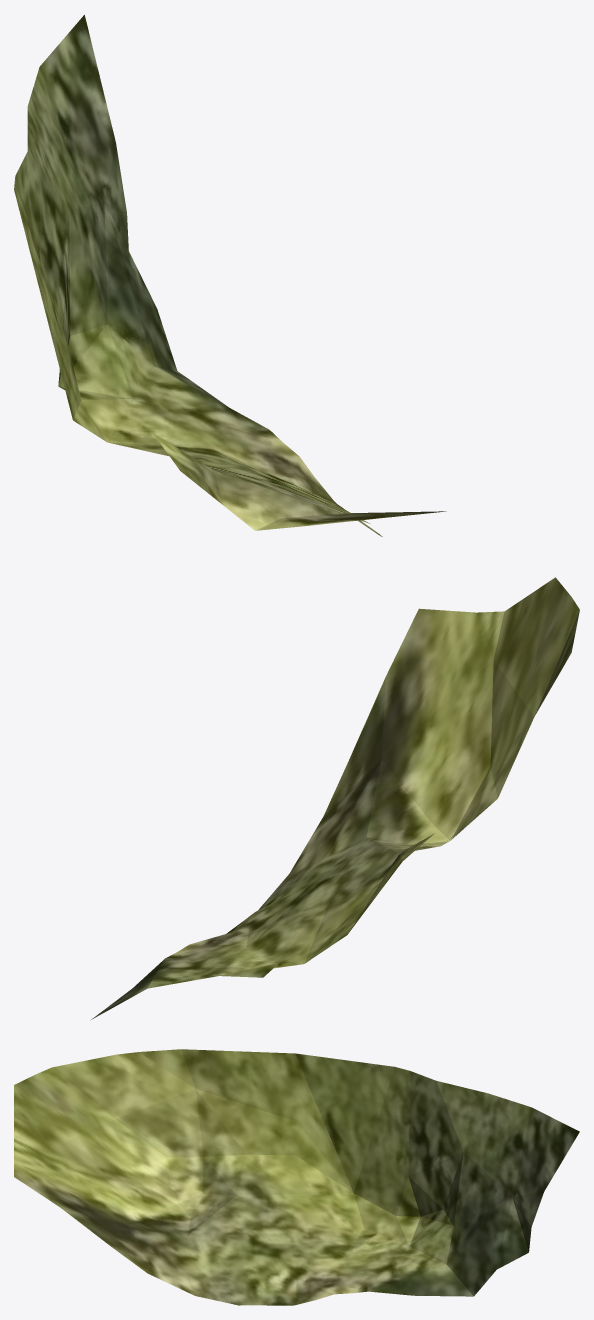
3 views of the same model, one above another, from view 1: azimuth 30°, elevation 25°; view 2: azimuth 150°, elevation 25°; view 3: azimuth 270°, elevation 25° (orthographic). The views are drawn at different scales.
Bounding box in the file's own units: 0.9729 × 0.9579 × 2.82.
Materials: 1 (1 with a texture image).
